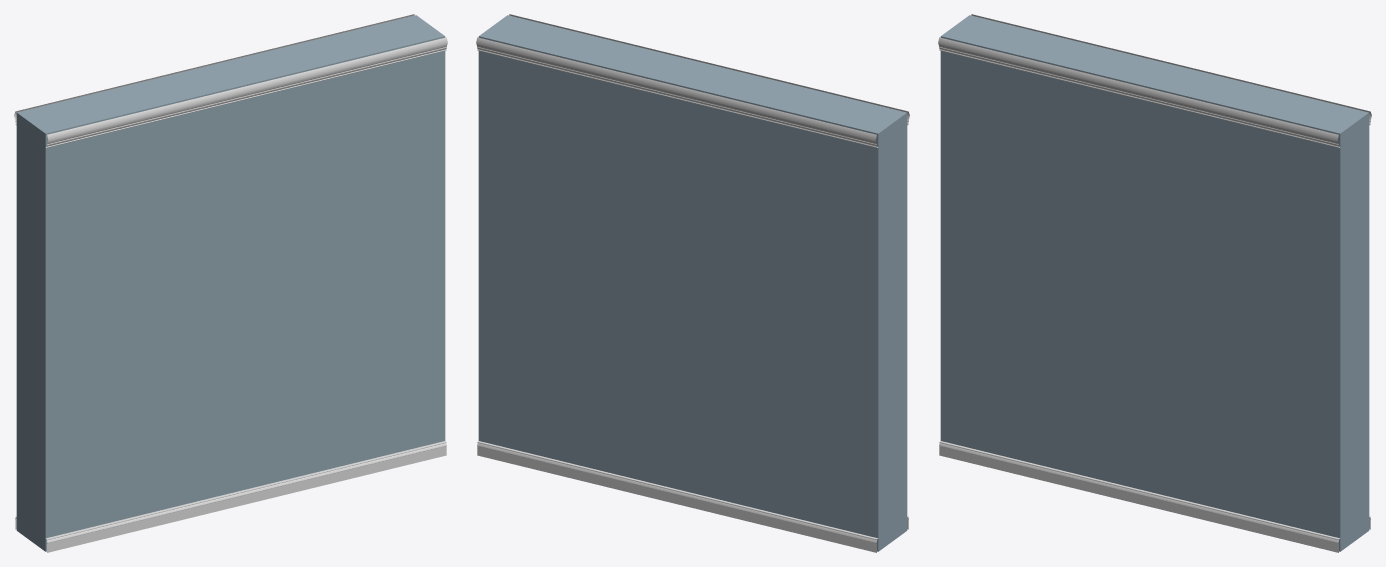
Rendered from SM_Wall_Basic_Outside.fbx.
3 views of the same model, side by side, from view 1: azimuth 30°, elevation 25°; view 2: azimuth 150°, elevation 25°; view 3: azimuth 330°, elevation 25° (orthographic).
Visible parts, largest first — view 1: SM_Wall_Basic_Outside; view 2: SM_Wall_Basic_Outside; view 3: SM_Wall_Basic_Outside.
Boxes of the visible parts, <box> form: SM_Wall_Basic_Outside: <box>14,14,447,552</box>; SM_Wall_Basic_Outside: <box>476,14,909,552</box>; SM_Wall_Basic_Outside: <box>938,14,1371,552</box>.
Size of the model in its own units: 2 by 2 by 0.2971.
